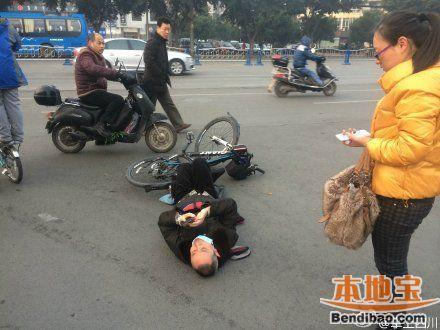Fall-Detected: (147, 145, 254, 285)
